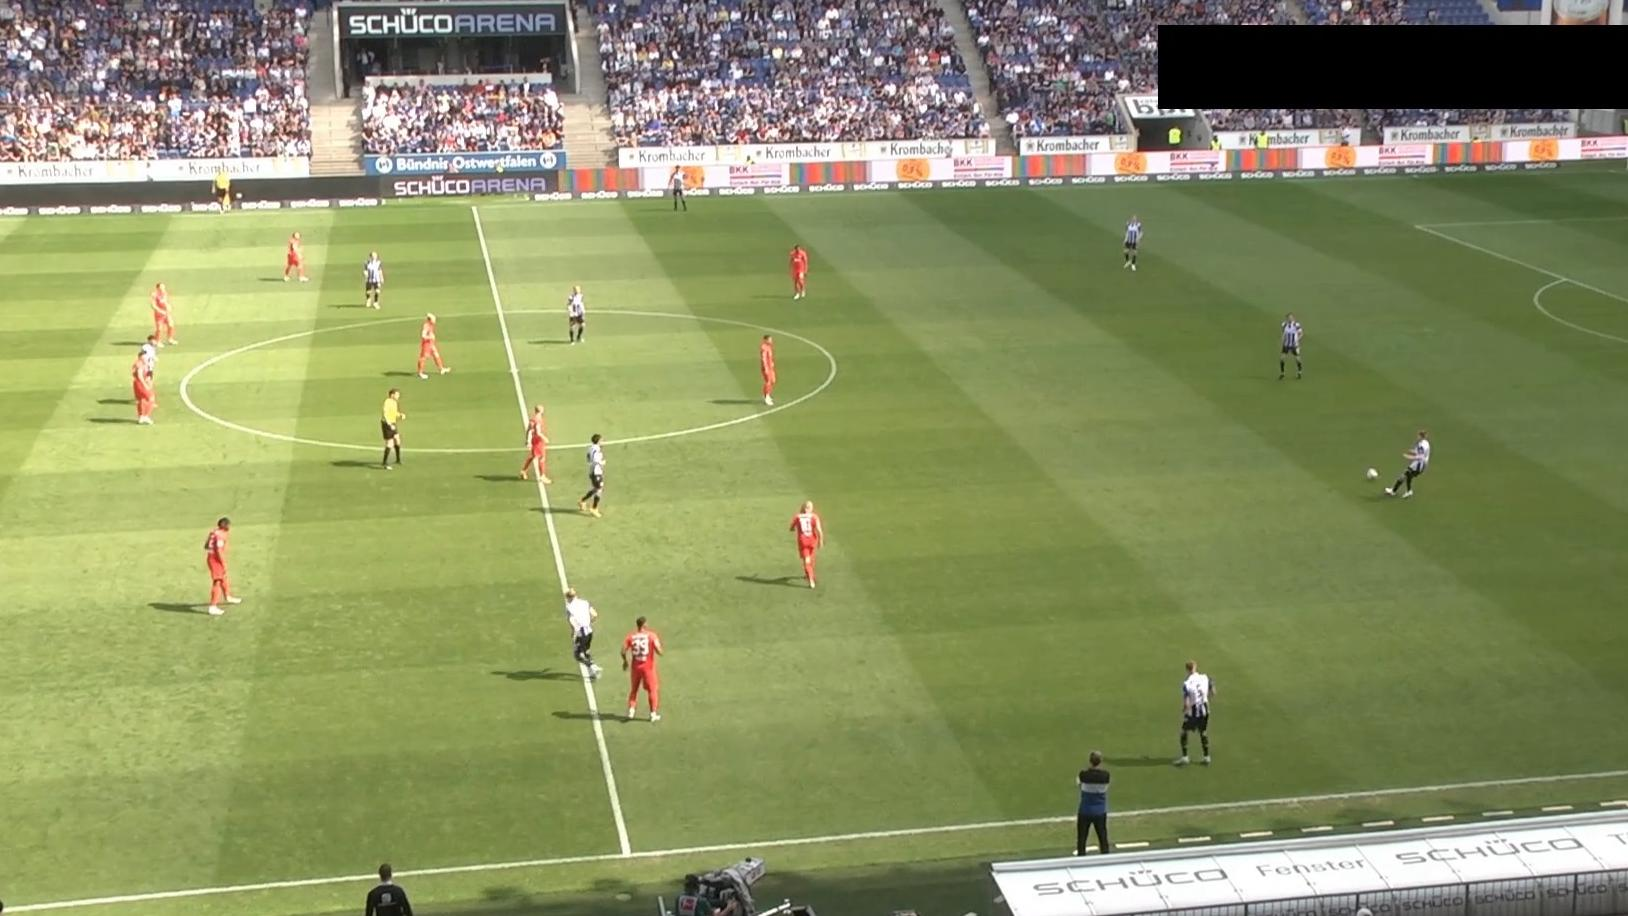ball: (1366, 467, 1379, 481)
